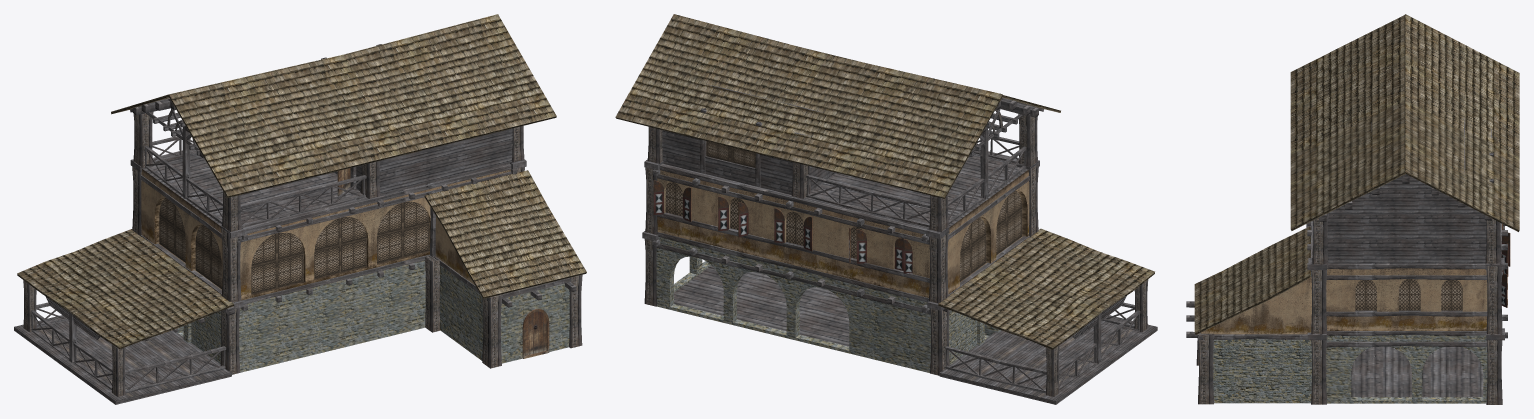
Rendered from tavern_main.dae.
3 views of the same model, side by side, from view 1: azimuth 30°, elevation 25°; view 2: azimuth 150°, elevation 25°; view 3: azimuth 270°, elevation 25° (orthographic). The views are drawn at different scales.
Parts seen in each view (by area): view 1: house; view 2: house; view 3: house.
Part boxes in pixels (bbox=[...]): house: bbox=[14, 14, 586, 404]; house: bbox=[615, 14, 1157, 404]; house: bbox=[1186, 14, 1519, 404].
Bounding box in the file's own units: 33.91 × 18.75 × 23.09.
